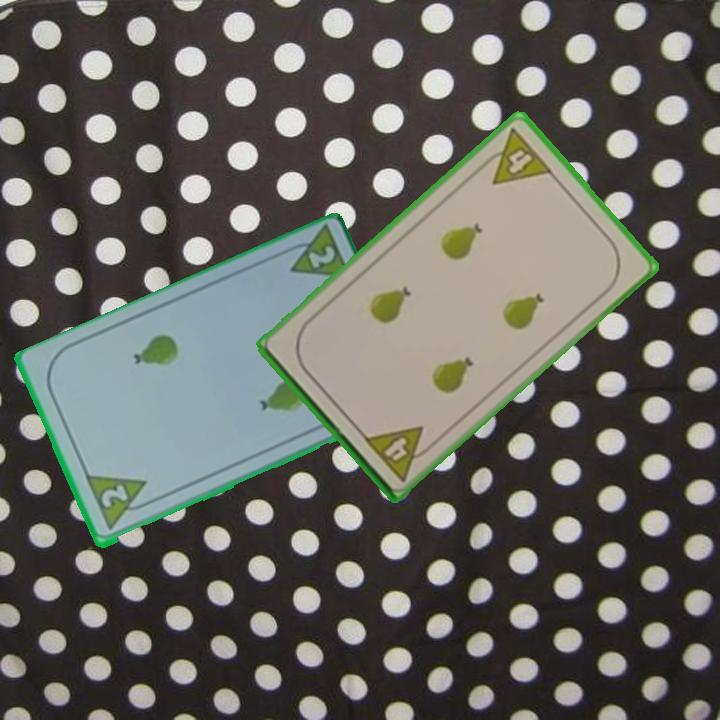2p: (82, 472, 157, 534), (304, 242, 338, 272)
4p: (475, 124, 556, 188), (360, 421, 438, 484)
